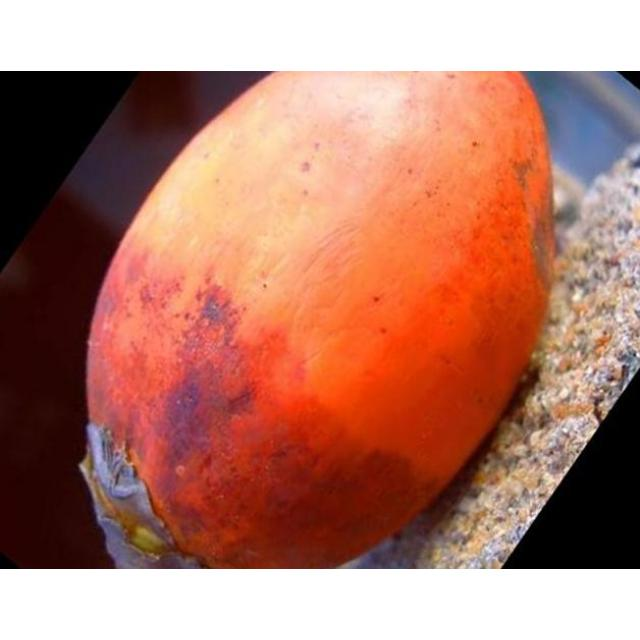good: (79, 71, 552, 568)
